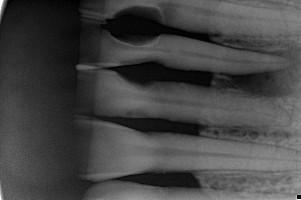Dental Caries: (217, 40, 301, 95)
